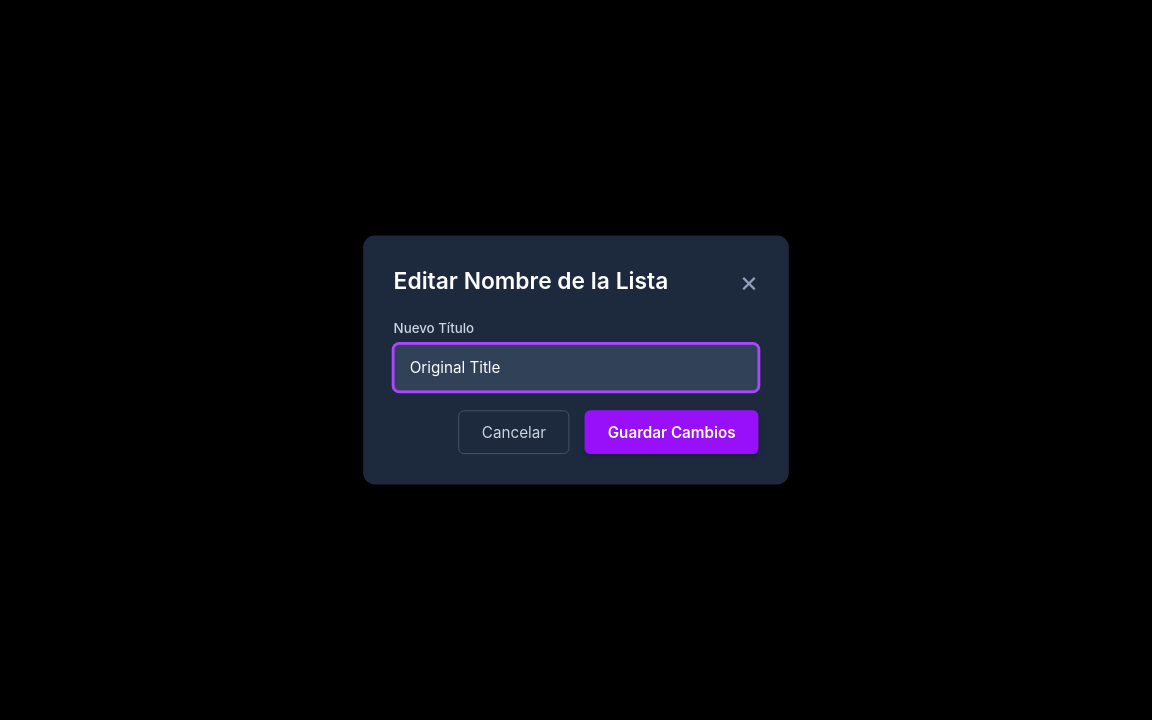
Test case: Componente EditListModal › muestra los mensajes de validación correctamente
This screenshot has width=1152, height=720.
Campo vacío
Step 1. Clear the field labelled "Nuevo Título" → (576, 368), box [394,344,758,391]
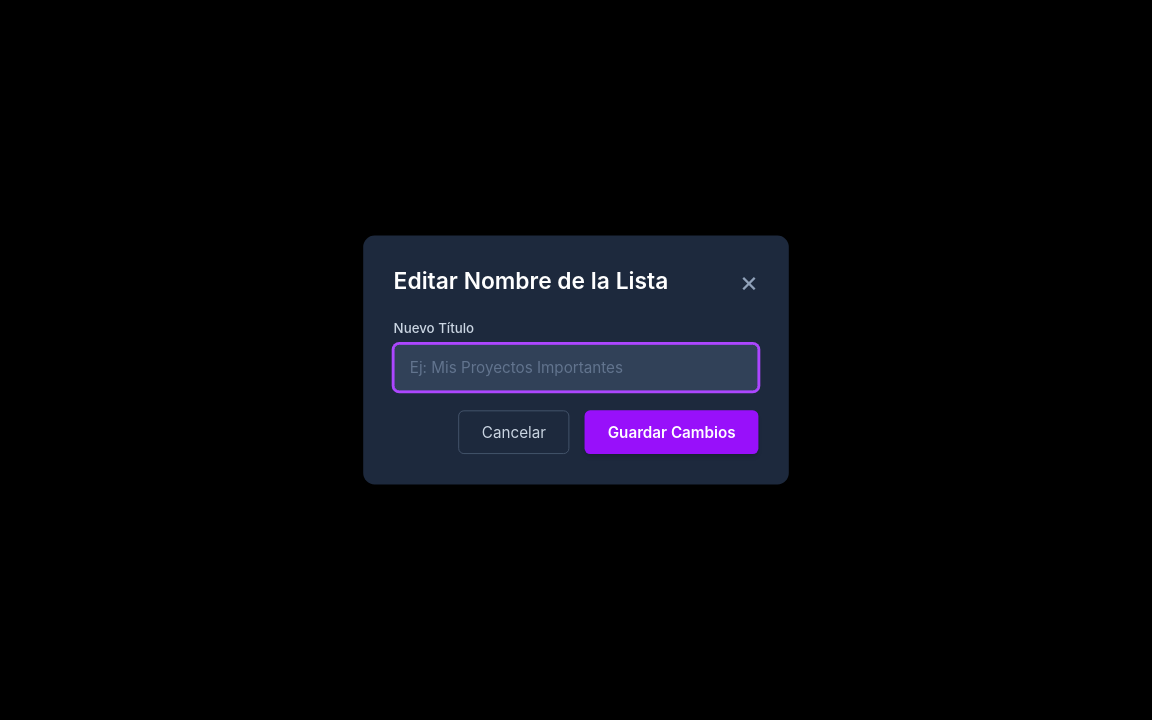
Step 2. Leave the field labelled "Nuevo Título", box [394,344,758,391]
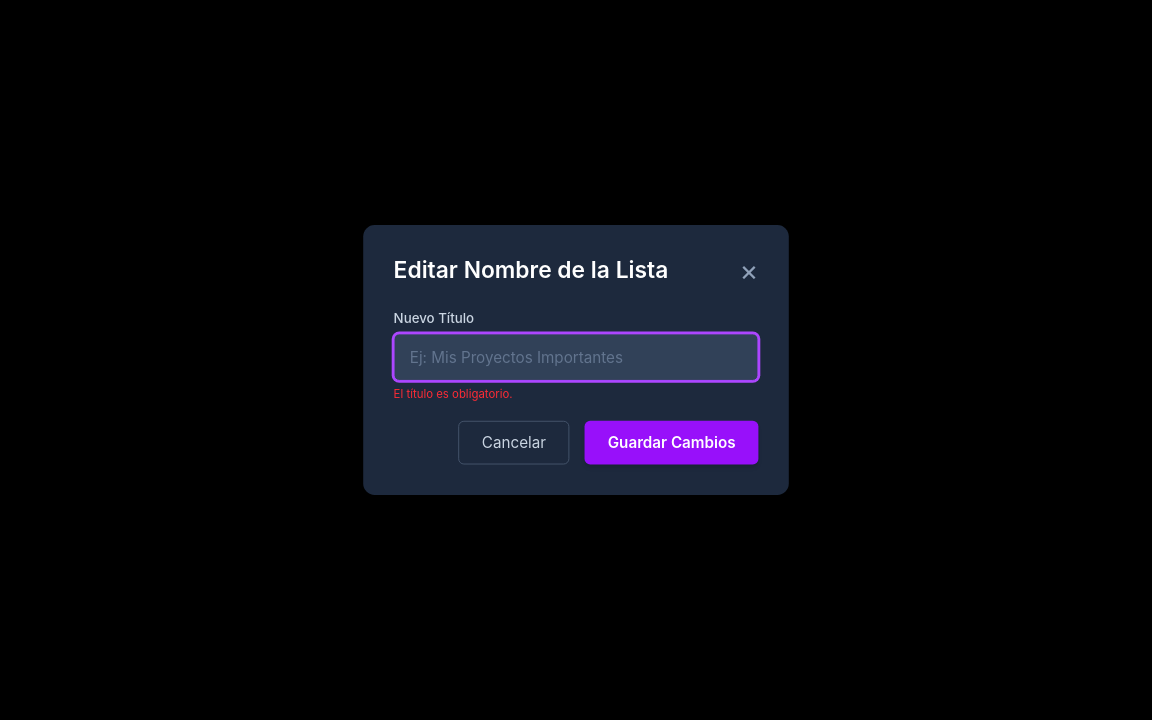
Expected: the text "El título es obligatorio." is shown, [394,387,512,401]
Mismo título
Step 3. Type "Original Title" into the field labelled "Nuevo Título" → (576, 357), box [394,333,758,381]
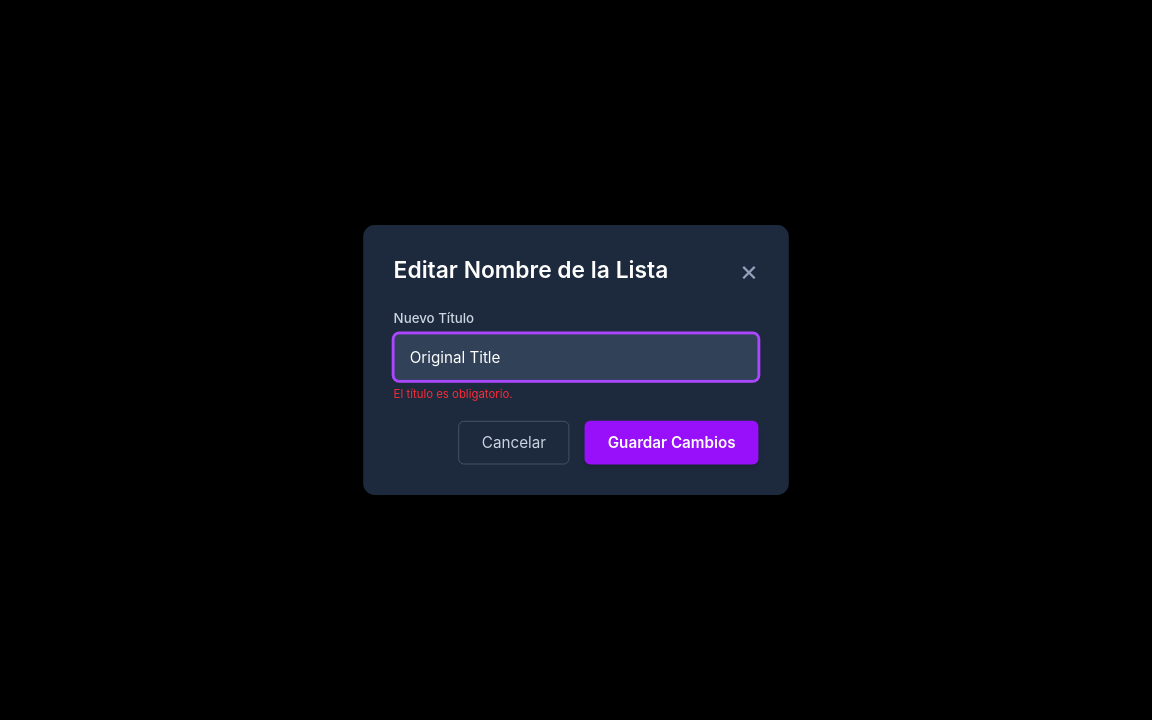
Step 4. Leave the field labelled "Nuevo Título", box [394,333,758,381]
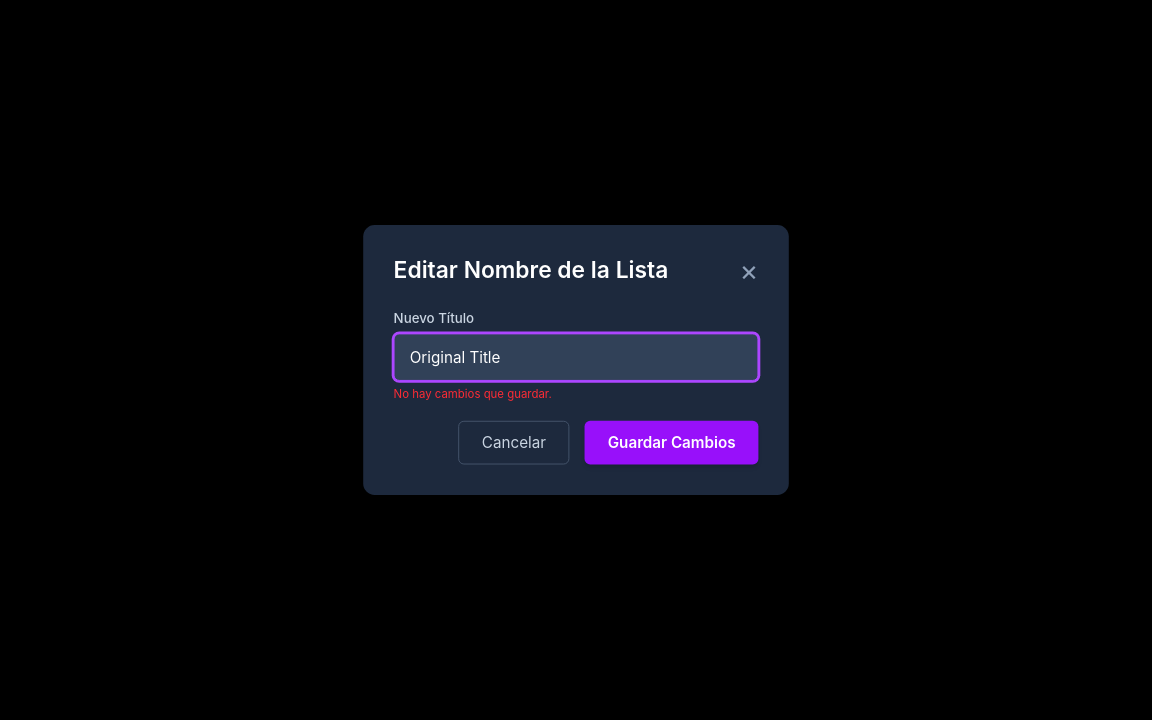
Expected: the text "No hay cambios que guardar." is shown, [394,387,552,401]
Título existente
Step 5. Replace the text in the field labelled "Nuevo Título" with "Existing Title" → (576, 357), box [394,333,758,381]
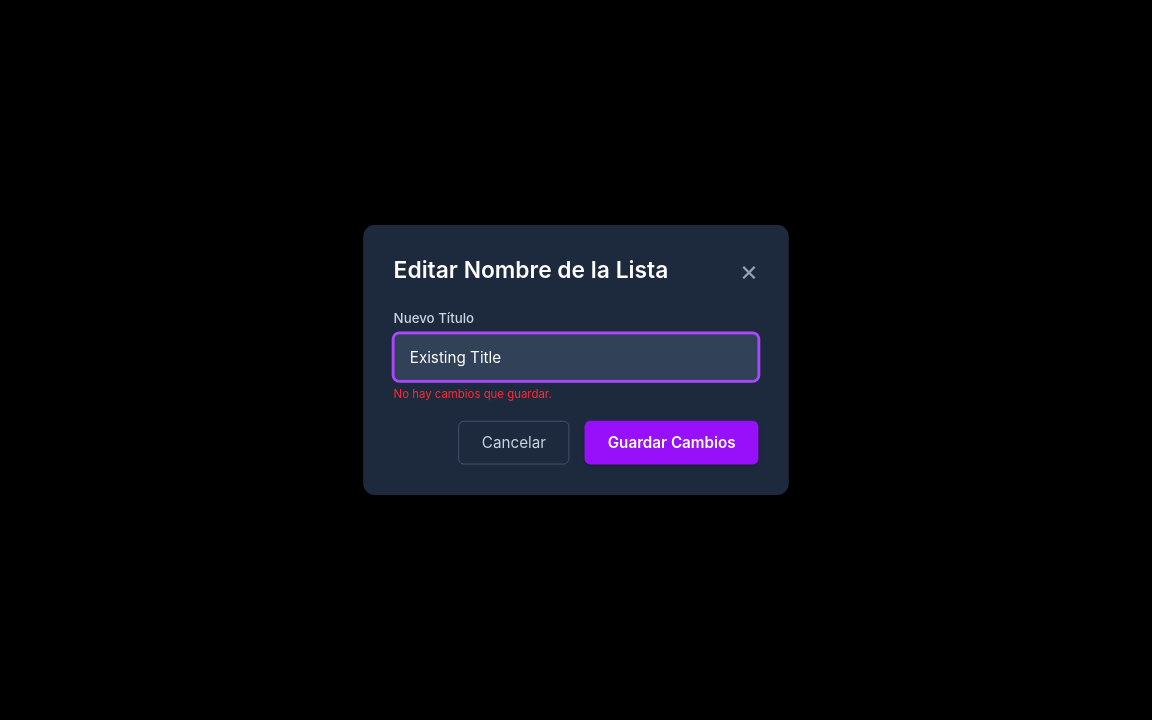
Step 6. Leave the field labelled "Nuevo Título", box [394,333,758,381]
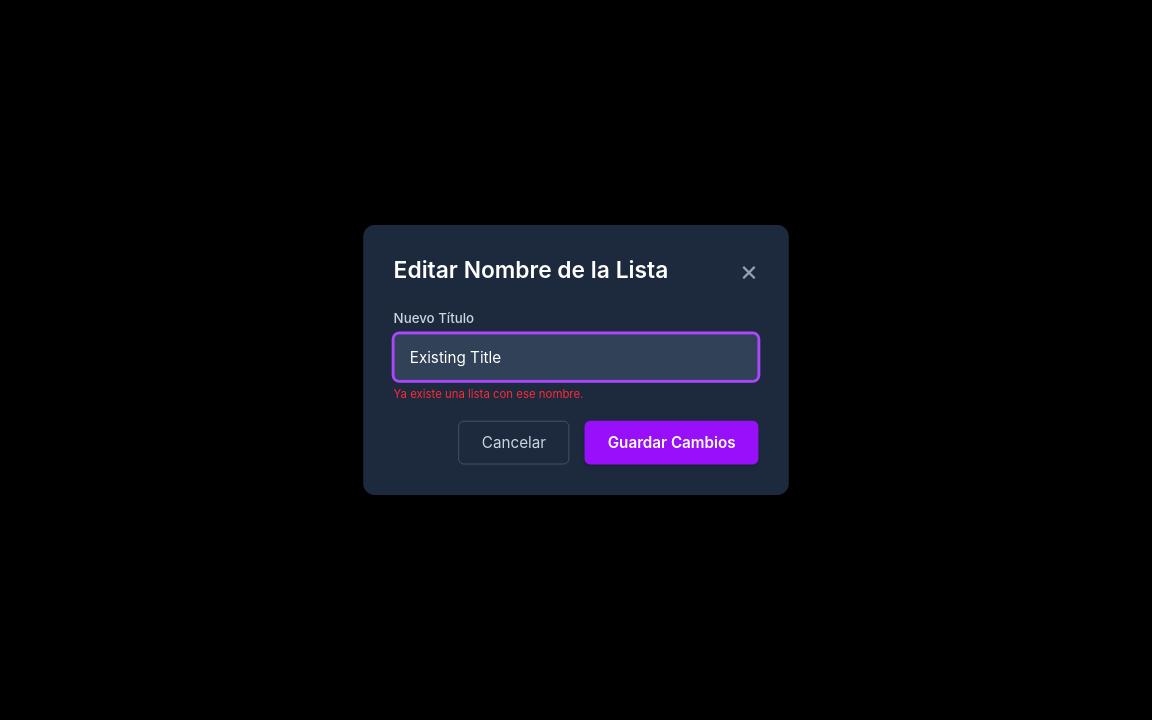
Expected: the text "Ya existe una lista con ese nombre." is shown, [394,387,583,401]
